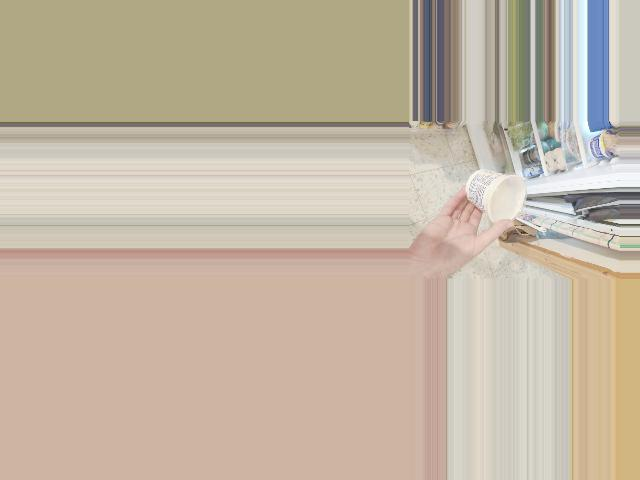cotage: (462, 173, 525, 220)
